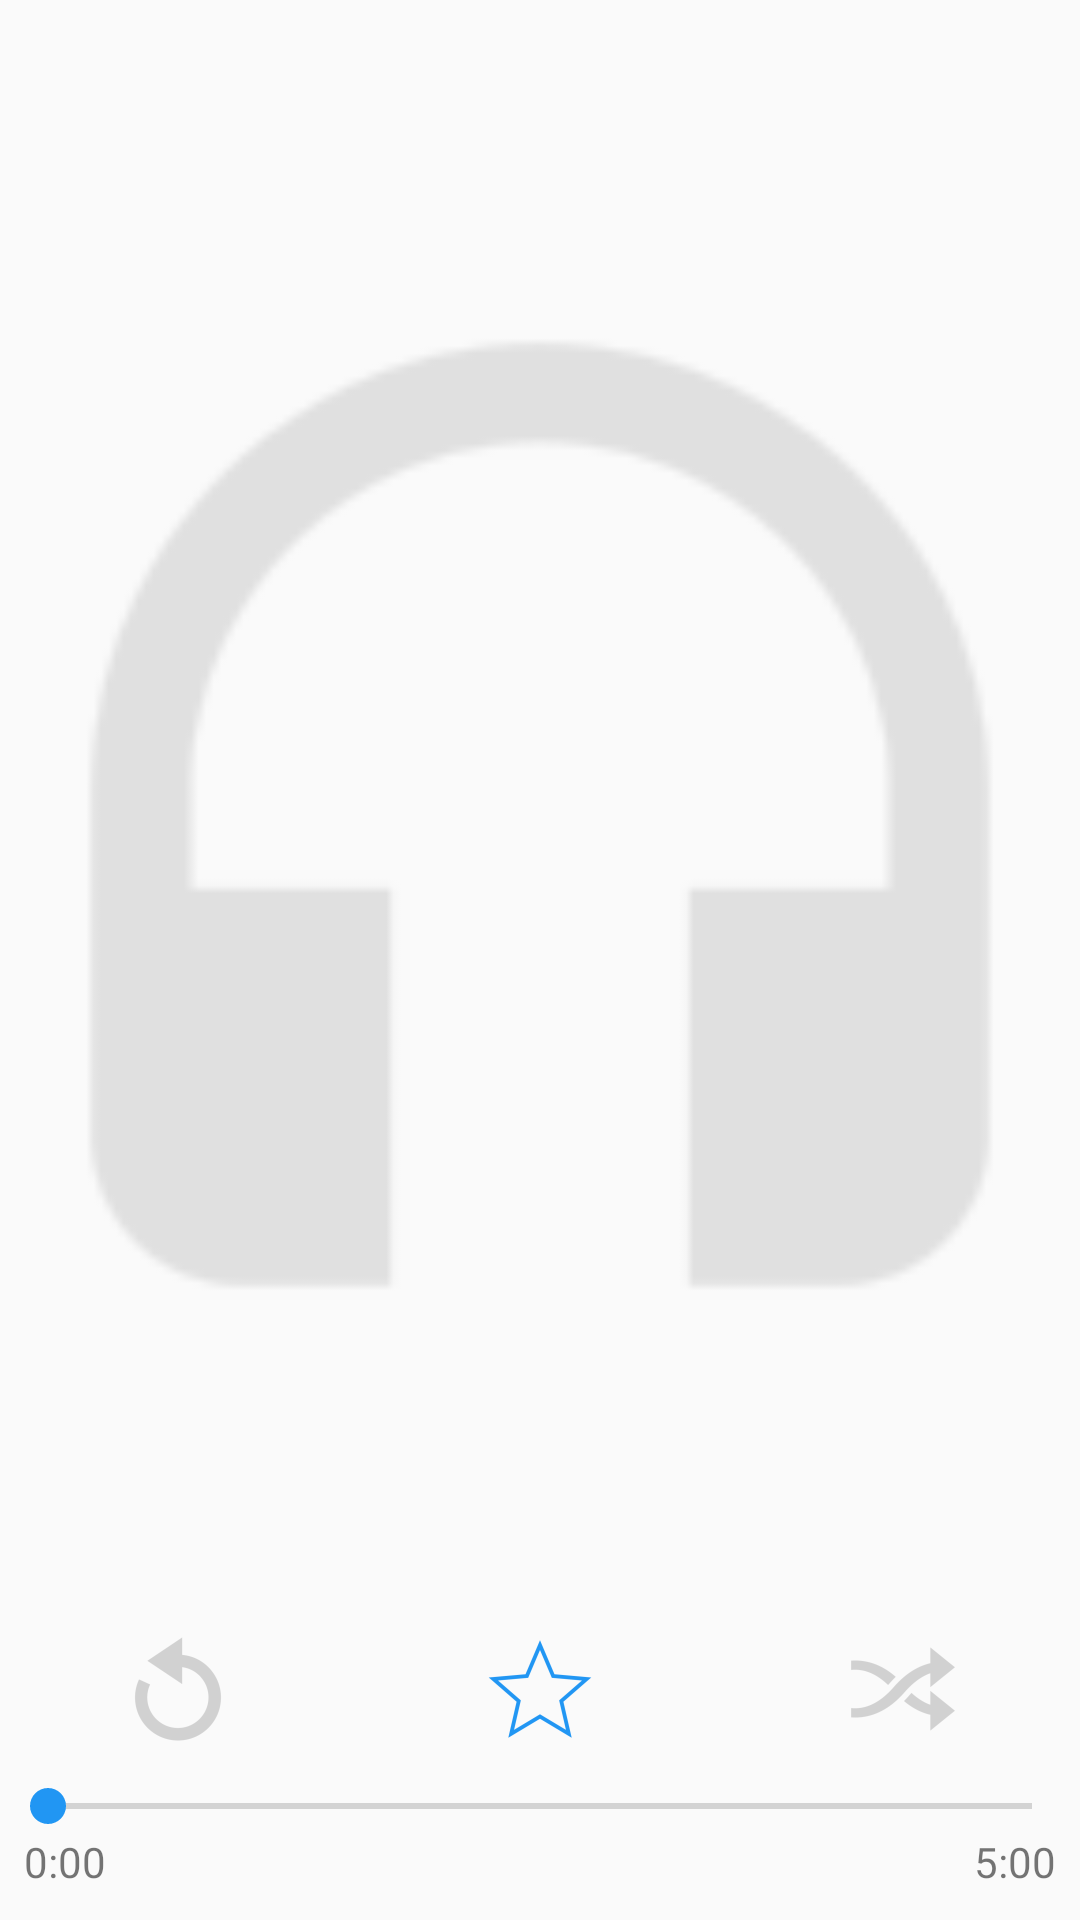

Icon click points for this 1080w x 1920h phone screenshot, format point (x, y):
favorite: point (540, 1689)
repeat: point (178, 1689)
shuffle: point (902, 1689)
